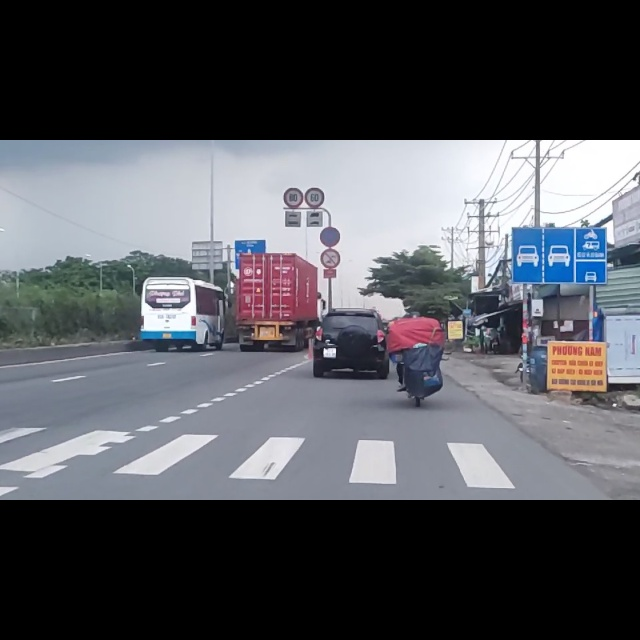bien_cam: (511, 154, 607, 256), (305, 83, 326, 122), (320, 153, 341, 191), (283, 84, 303, 122), (321, 193, 341, 229)
